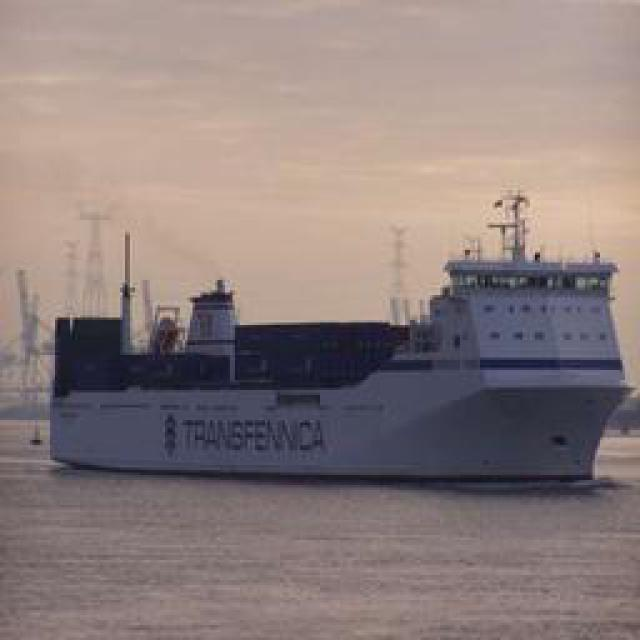Ship: (70, 228, 635, 493)
